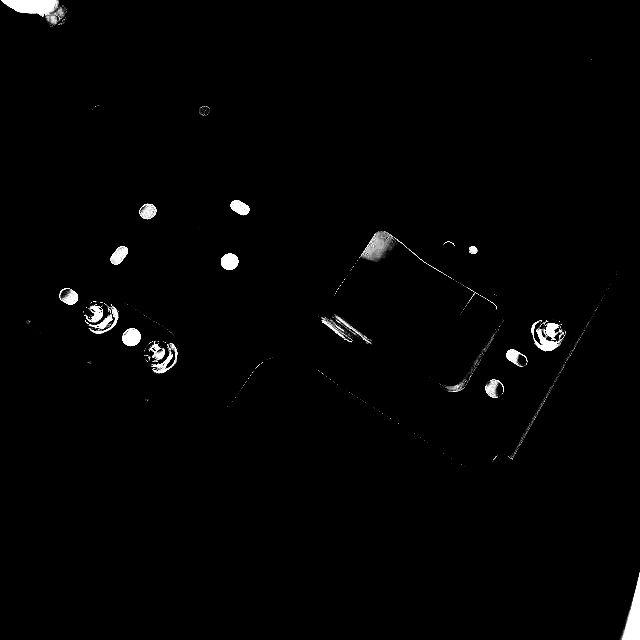dog: (140, 337, 181, 377), (529, 316, 568, 353), (81, 299, 118, 336)
